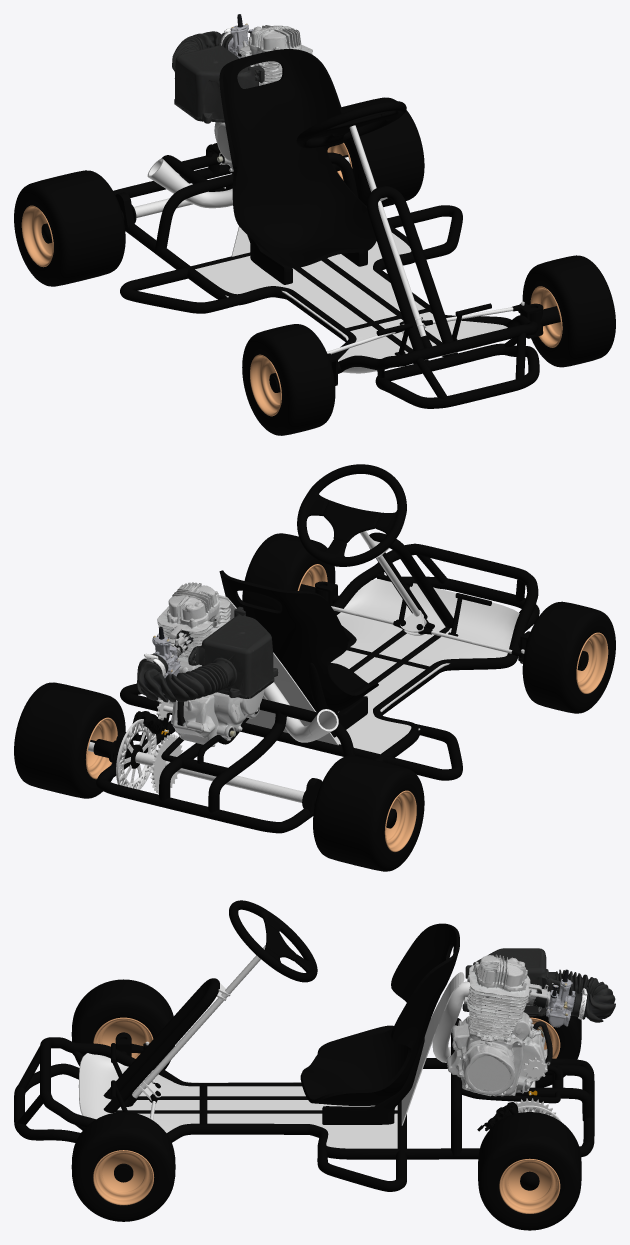
Rendered from go-kart-250cc.glb.
3 renders of one model, top to bottom at view 1: azimuth 30°, elevation 25°; view 2: azimuth 150°, elevation 25°; view 3: azimuth 270°, elevation 25°, orthographic. The views are drawn at different scales.
Visible parts, largest first — view 1: frame, seat, wheel_RR, skidplate, wheel_FR, wheel_FL, wheel_RL, carb, engine, steeringwheel, exhaust, steering_column (+2 smaller); view 2: frame, skidplate, wheel_RR, wheel_RL, seat, wheel_FR, engine, carb, steeringwheel, wheel_FL, rear_axle, skidplate.001 (+6 smaller); view 3: frame, engine, seat, wheel_RL, skidplate, wheel_FL, wheel_FR, carb, steeringwheel, seat bracket, wheel_RR, steering_column (+4 smaller).
Part boxes in pixels (x1,y1,x2,y2): frame: [113, 143, 539, 408]; seat: [219, 49, 376, 267]; wheel_RR: [14, 170, 125, 286]; skidplate: [195, 233, 507, 373]; wheel_FR: [242, 324, 335, 435]; wheel_FL: [522, 255, 615, 367]; wheel_RL: [327, 97, 424, 206]; carb: [172, 28, 264, 123]; engine: [214, 14, 312, 171]; steeringwheel: [296, 101, 406, 148]; exhaust: [147, 158, 232, 208]; steering_column: [349, 125, 426, 336]; frame: [96, 532, 539, 833]; skidplate: [331, 579, 519, 754]; wheel_RR: [313, 755, 424, 871]; wheel_RL: [14, 682, 125, 798]; seat: [219, 570, 378, 712]; wheel_FR: [522, 601, 615, 713]; engine: [152, 582, 264, 746]; carb: [136, 606, 278, 702]; steeringwheel: [297, 464, 406, 566]; wheel_FL: [242, 533, 335, 610]; rear_axle: [88, 719, 396, 828]; skidplate.001: [219, 595, 338, 745]; frame: [14, 978, 594, 1191]; engine: [446, 954, 575, 1096]; seat: [300, 923, 459, 1105]; wheel_RL: [478, 1112, 581, 1230]; skidplate: [78, 1053, 397, 1148]; wheel_FL: [71, 1112, 175, 1221]; wheel_FR: [71, 979, 174, 1069]; carb: [462, 948, 615, 1022]; steeringwheel: [229, 900, 317, 982]; seat bracket: [322, 1037, 424, 1124]; wheel_RR: [529, 1015, 581, 1087]; steering_column: [132, 945, 265, 1100].
Bounding box in the file's own units: 1.13 × 0.7317 × 1.67.
Materials: 13 (3 with a texture image).
